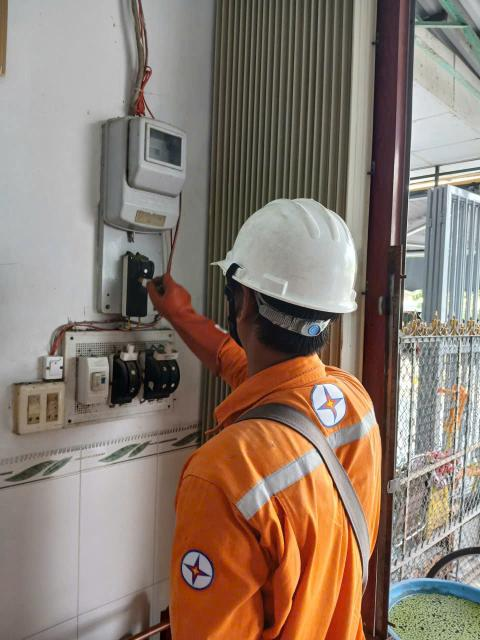gloves: (137, 260, 239, 376)
helmet: (212, 198, 371, 329)
